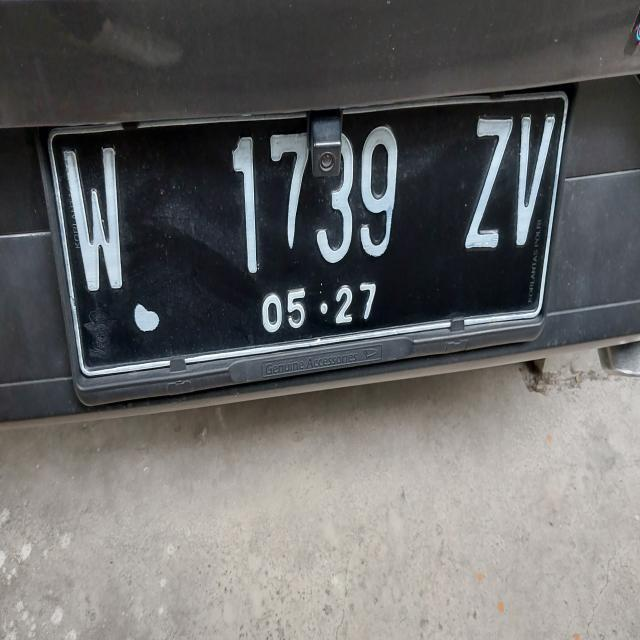1: (221, 127, 273, 293)
3: (312, 117, 356, 273)
7: (264, 122, 315, 284)
9: (356, 116, 406, 264)
V: (510, 102, 560, 274)
W: (53, 132, 145, 321)
Z: (456, 102, 512, 254)
